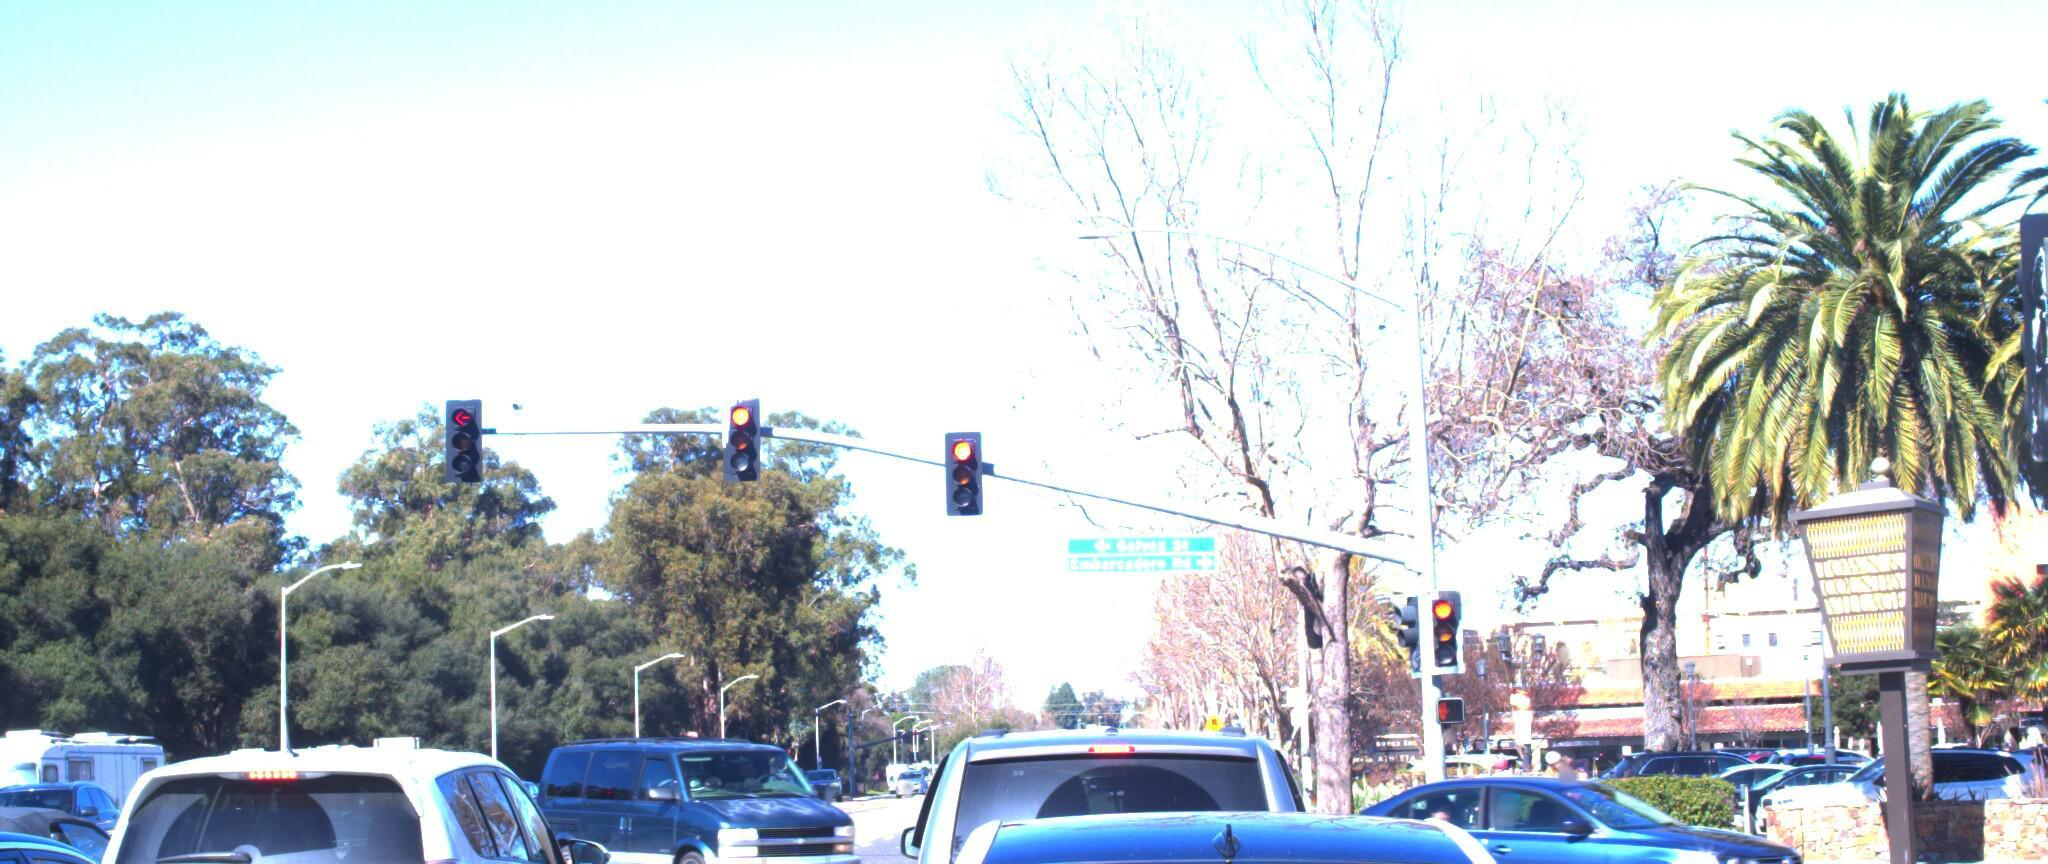car: (735, 747, 1789, 864), (68, 703, 648, 864), (878, 683, 1347, 864), (1251, 754, 1830, 864), (496, 717, 875, 864), (0, 770, 232, 864), (0, 807, 377, 864), (1720, 760, 1891, 864), (393, 764, 545, 850)
other_vehicle: (0, 713, 182, 864)
